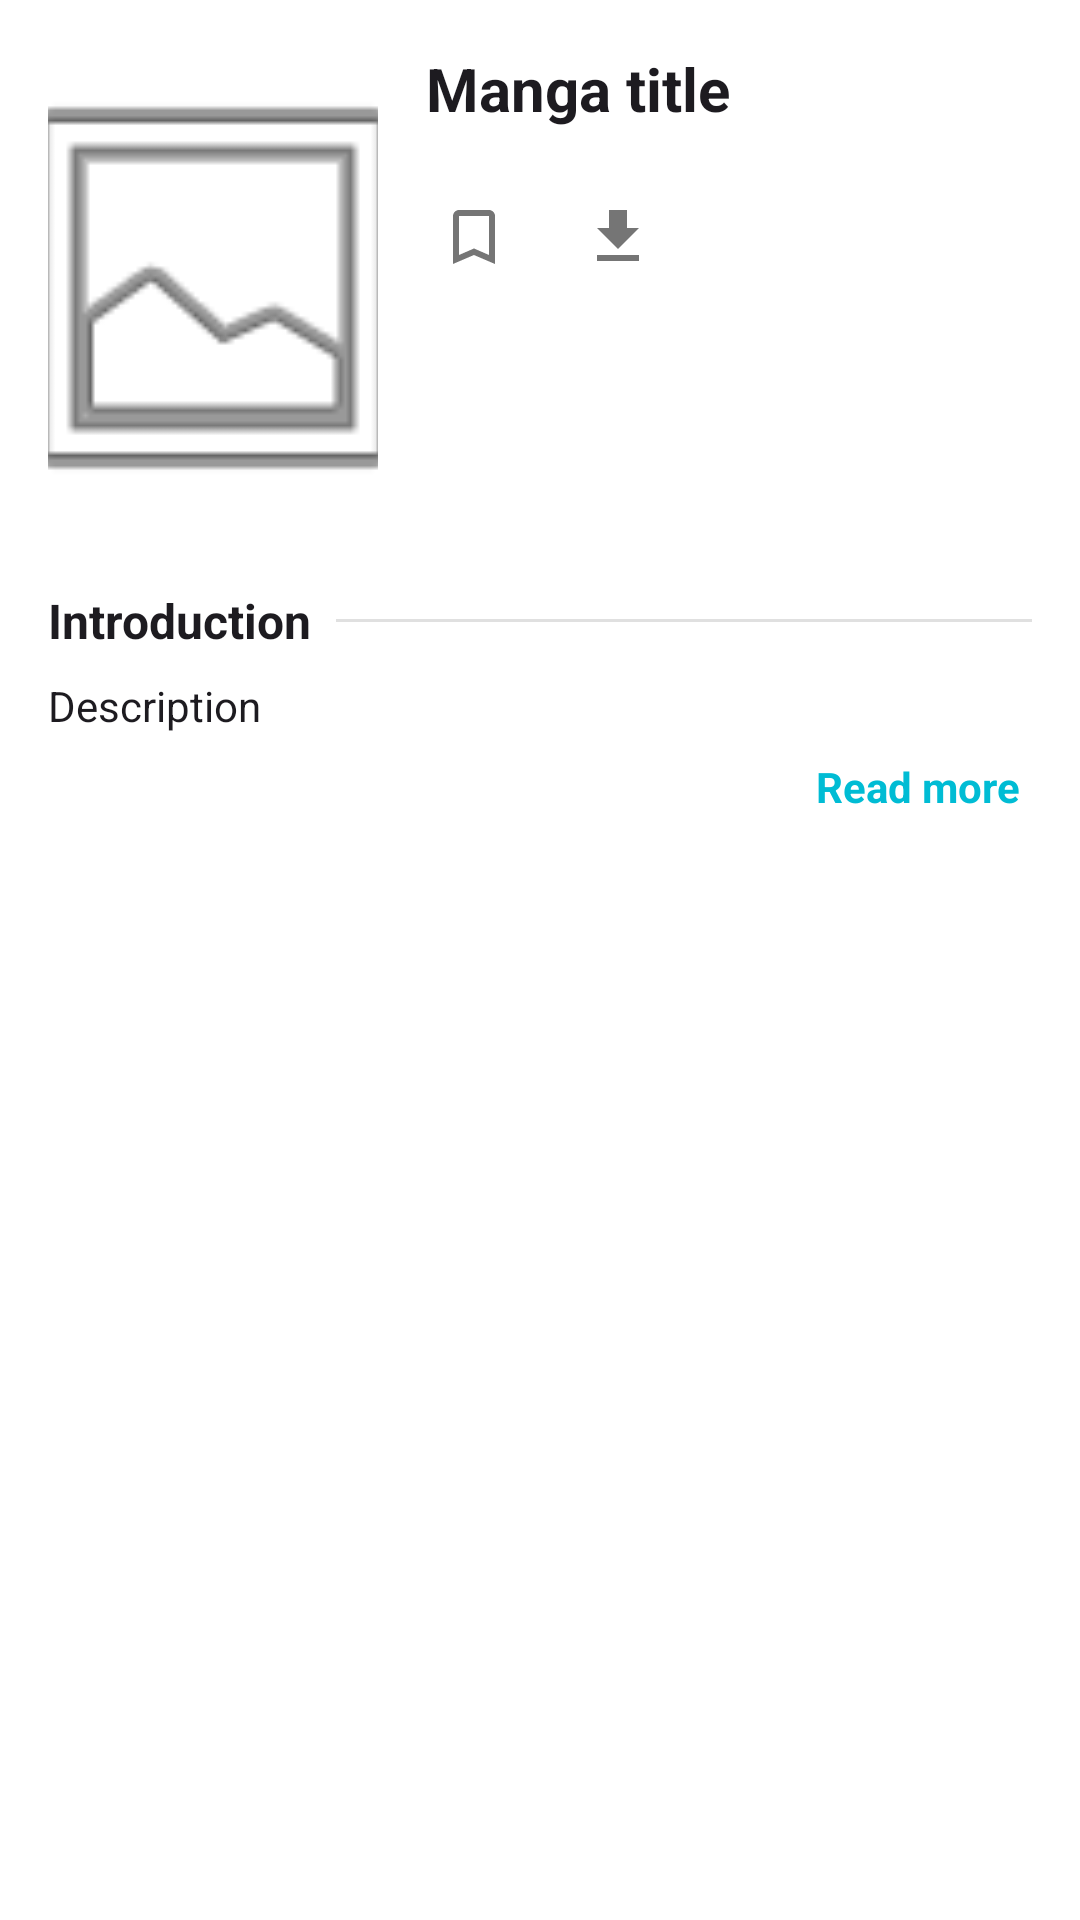

Screen size 1080 x 1920. Icon name, then its center in pixels as point (x, y):
bookmark: point (474, 237)
download: point (618, 235)
